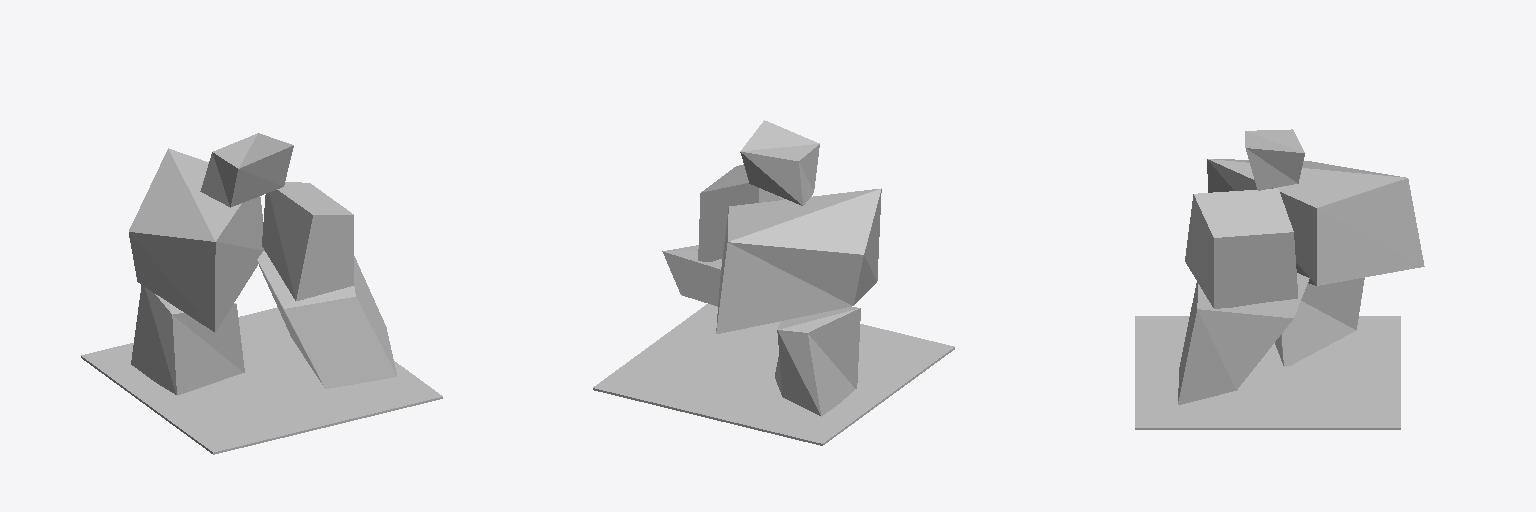
Rendered from pather_NO_5.obj.
3 renders of one model, left to right at view 1: azimuth 30°, elevation 25°; view 2: azimuth 150°, elevation 25°; view 3: azimuth 270°, elevation 25°, orthographic.
Visible parts, largest first — view 1: Cube.005, Cube.003, Cube.001, Cube_Cube.004, Cube.004_Cube, Cube.002; view 2: Cube.005, Cube.003, Cube.004_Cube, Cube.002, Cube_Cube.004, Cube.001; view 3: Cube.005, Cube.003, Cube_Cube.004, Cube.001, Cube.004_Cube, Cube.002.
Part boxes in pixels (left/top/right/bottom): Cube.005: left=81, top=307, right=442, bottom=454; Cube.003: left=129, top=148, right=264, bottom=332; Cube.001: left=257, top=251, right=396, bottom=388; Cube_Cube.004: left=262, top=182, right=353, bottom=300; Cube.004_Cube: left=131, top=285, right=244, bottom=395; Cube.002: left=200, top=133, right=293, bottom=207; Cube.005: left=593, top=304, right=954, bottom=445; Cube.003: left=716, top=188, right=881, bottom=333; Cube.004_Cube: left=775, top=307, right=860, bottom=416; Cube.002: left=740, top=120, right=819, bottom=205; Cube_Cube.004: left=698, top=164, right=811, bottom=265; Cube.001: left=662, top=245, right=721, bottom=306; Cube.005: left=1135, top=316, right=1400, bottom=429; Cube.003: left=1207, top=159, right=1424, bottom=285; Cube_Cube.004: left=1185, top=188, right=1297, bottom=308; Cube.001: left=1178, top=273, right=1309, bottom=404; Cube.004_Cube: left=1275, top=278, right=1364, bottom=366; Cube.002: left=1245, top=129, right=1304, bottom=190.
Size of the model in its own units: 0.6515 by 0.64 by 0.7099.